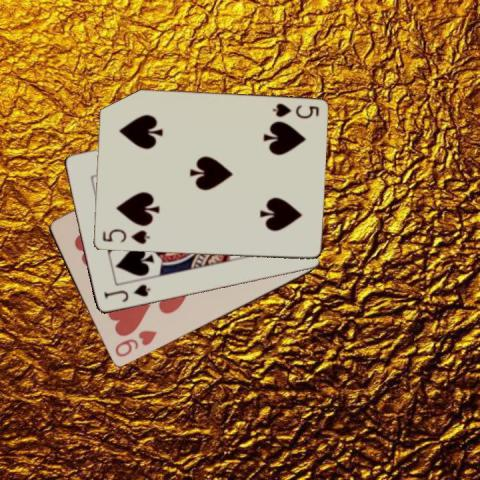5s: (99, 226, 151, 246), (269, 100, 320, 120)
9h: (111, 328, 159, 360)
Js: (101, 281, 152, 304)
